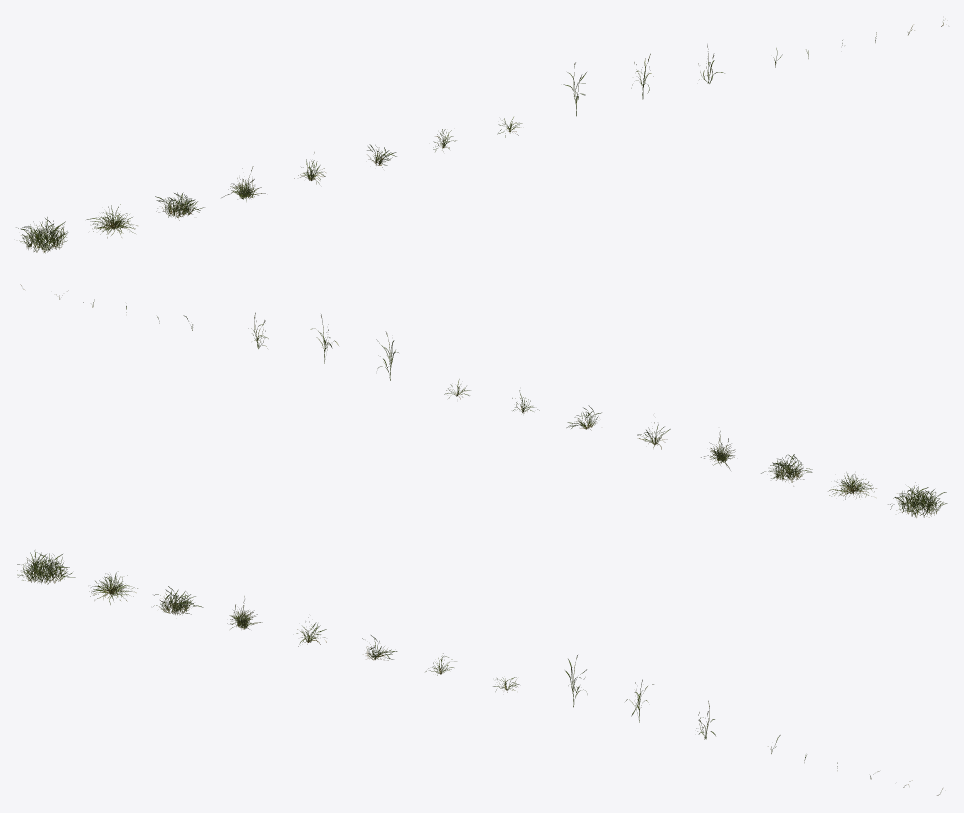
Rendered from grass_medium_01.glb.
3 renders of one model, top to bottom at view 1: azimuth 30°, elevation 25°; view 2: azimuth 150°, elevation 25°; view 3: azimuth 330°, elevation 25°, orthographic.
Parts seen in each view (by area): view 1: grass_medium_01_large_a_LOD0, grass_medium_01_large_c_LOD0, grass_medium_01_large_b_LOD0; view 2: grass_medium_01_large_a_LOD0, grass_medium_01_large_c_LOD0; view 3: grass_medium_01_large_a_LOD0, grass_medium_01_large_c_LOD0.
Boxes of the visible parts, <box> form: grass_medium_01_large_a_LOD0: <box>16,217,68,253</box>; grass_medium_01_large_c_LOD0: <box>155,192,204,220</box>; grass_medium_01_large_b_LOD0: <box>86,204,137,238</box>; grass_medium_01_large_a_LOD0: <box>888,482,947,517</box>; grass_medium_01_large_c_LOD0: <box>761,454,812,486</box>; grass_medium_01_large_a_LOD0: <box>17,550,75,584</box>; grass_medium_01_large_c_LOD0: <box>153,586,203,614</box>.
Bounding box in the file's own units: 5.6 × 0.3426 × 0.3266.
Materials: 1 (1 with a texture image).
